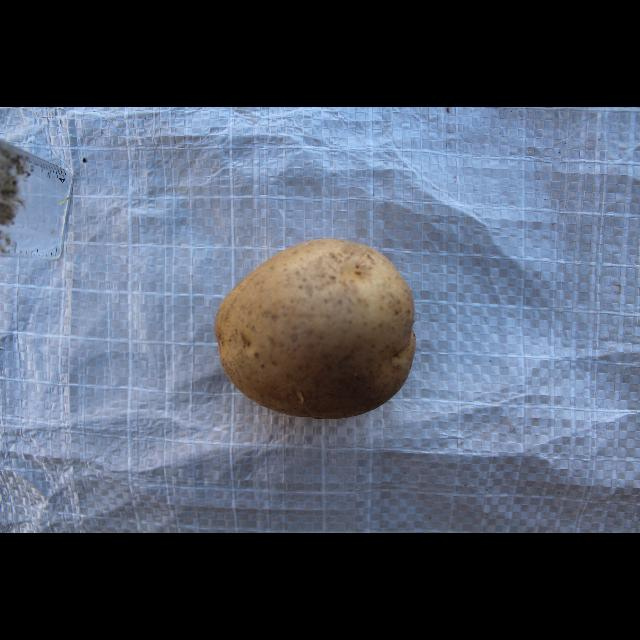Diseased-fungal potato: (215, 233, 421, 424)
